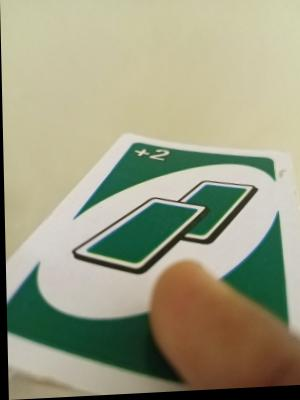-2: (133, 143, 170, 172)
green: (74, 170, 258, 279)
